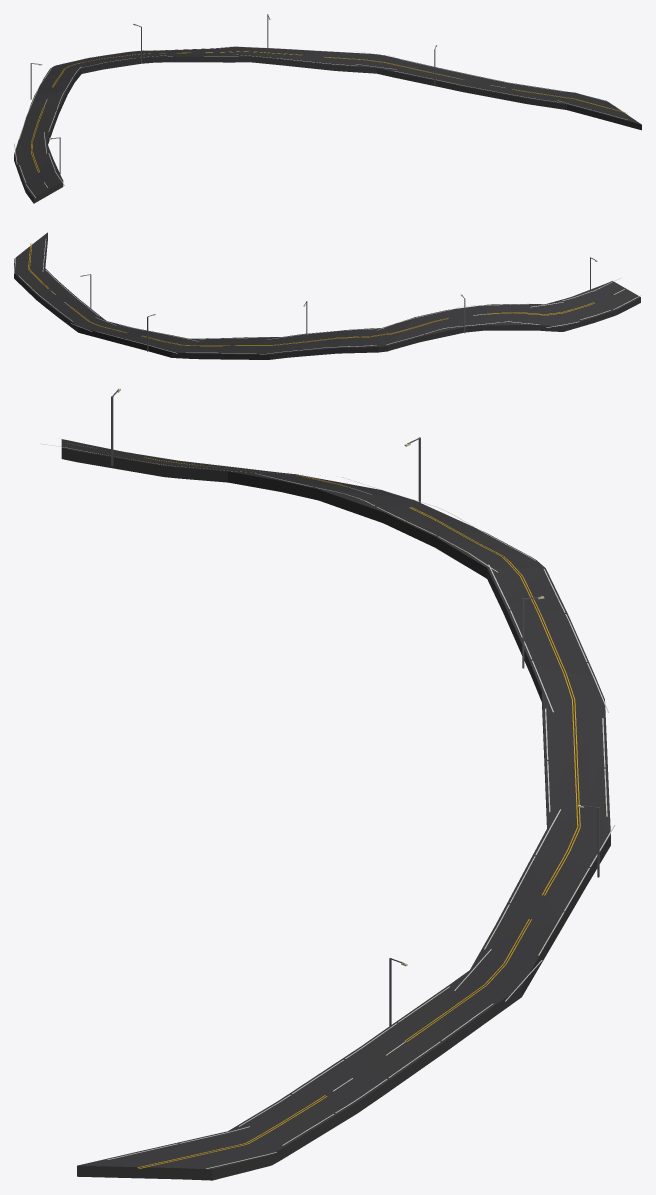
3 views of the same model, one above another, from view 1: azimuth 30°, elevation 25°; view 2: azimuth 150°, elevation 25°; view 3: azimuth 270°, elevation 25° (orthographic). The views are drawn at different scales.
Size of the model in its own units: 134 by 27.28 by 56.31.
